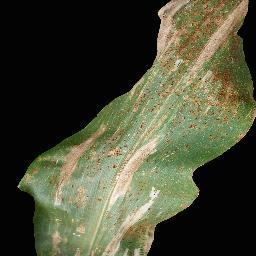Corn_Common_Rust: (16, 151, 226, 256), (146, 0, 256, 151), (44, 107, 146, 152), (105, 72, 144, 106)
